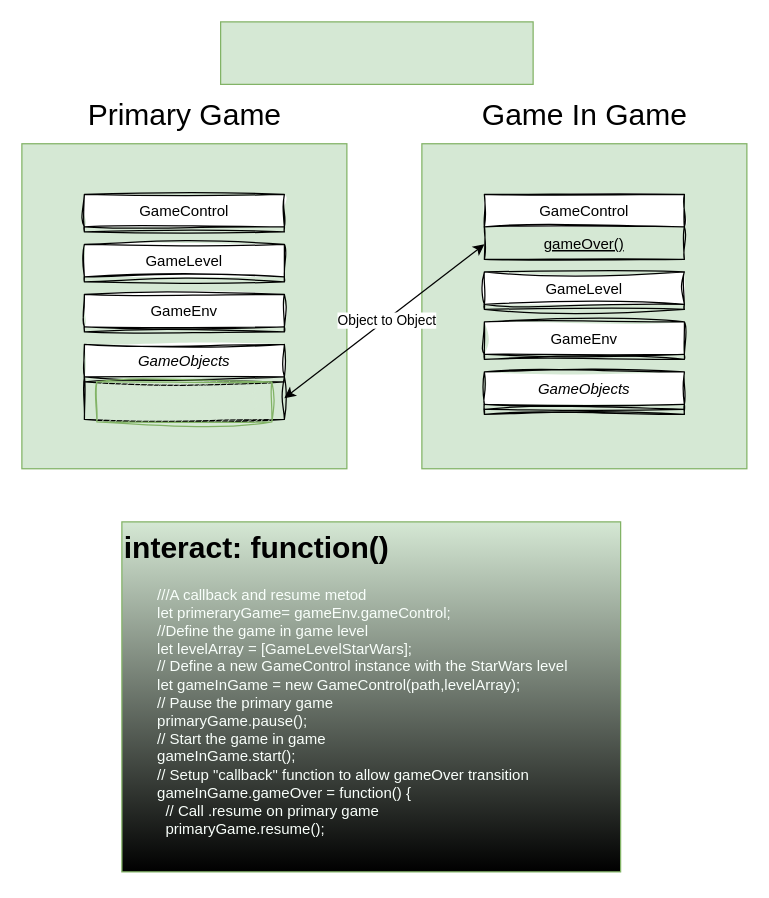
Image size: 769x898. Some labels were removed from this diagram. The box of each missing label's shape, as (x1, y1, x2, y2) in pixels:
Game Nesting: (219, 21, 533, 84)
interact(): (96, 381, 272, 422)
